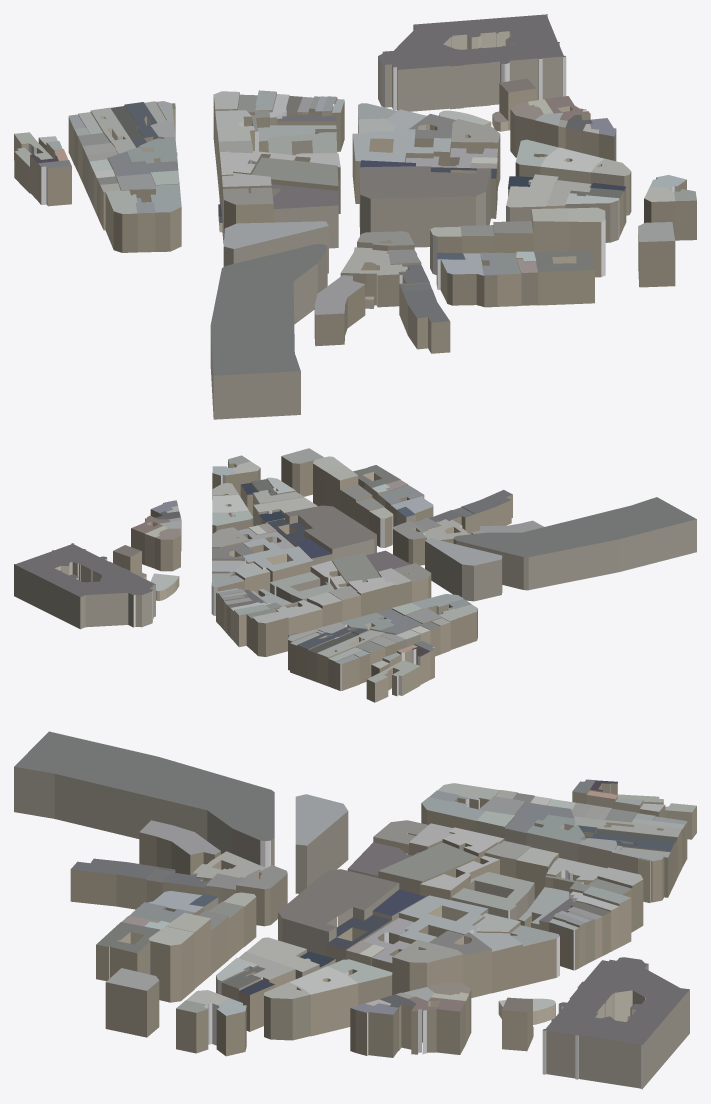
3 views of the same model, one above another, from view 1: azimuth 30°, elevation 25°; view 2: azimuth 150°, elevation 25°; view 3: azimuth 270°, elevation 25° (orthographic). The views are drawn at different scales.
Visible parts, largest first — view 1: tuile; view 2: tuile; view 3: tuile.
Boxes of the visible parts, x1,y1,x2,y2 form: tuile: (14, 14, 696, 419); tuile: (14, 448, 696, 702); tuile: (14, 731, 696, 1089).
Size of the model in its own units: 341 by 32.53 by 314.
